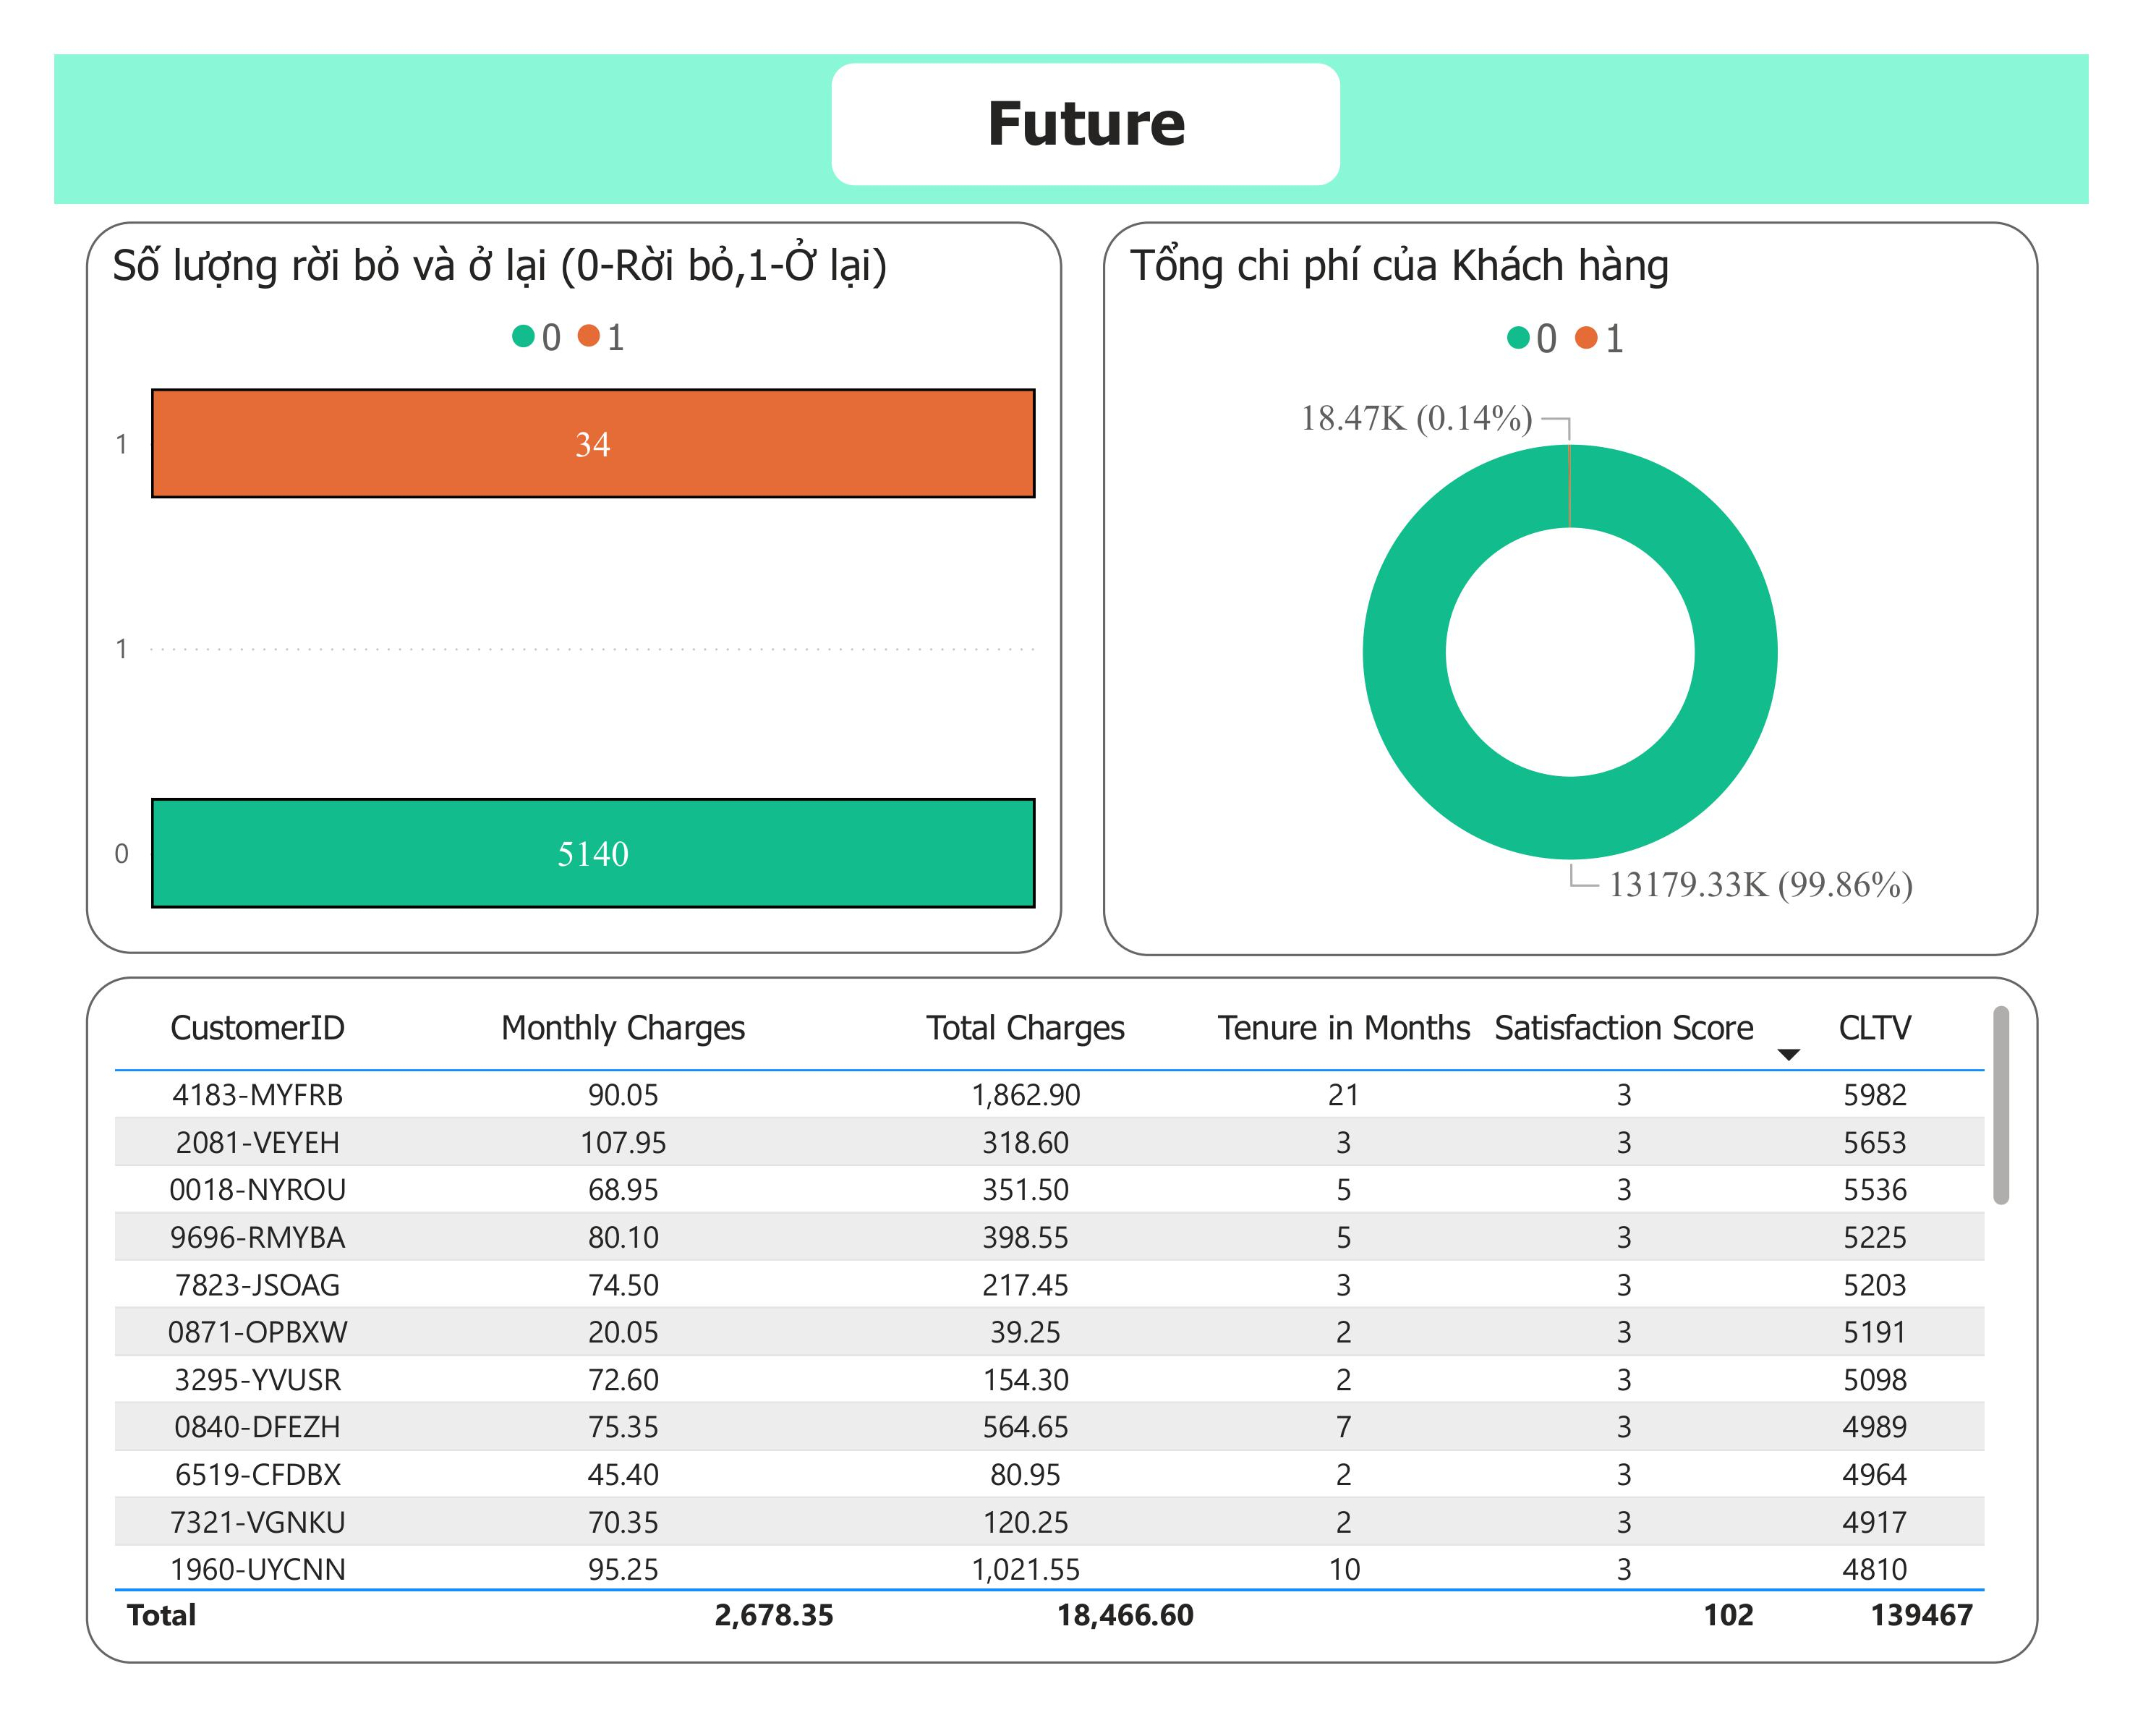

This screenshot's page, from the dashboard's own definition file:
{"tool":"powerbi","page":{"name":"Predict ","canvas":[900,720],"ordinal":3},"visuals":[{"type":"hundredPercentStackedBarChart","title":"Số lượng rời bỏ và ở lại (0-Rời bỏ,1-Ở lại)","fields":{"Category":["Future.Churn Label Future"],"Y":["CountNonNull(Future.CustomerID)"],"Series":["Future.Churn Label Future"]},"box":[14,74,432,324],"z":0},{"type":"tableEx","fields":{"Values":["Future.CustomerID","Sum(Future.Monthly Charge)","Sum(Future.Total Charges)","Future.Tenure in Months","Sum(Future.Satisfaction Score)","Sum(Status.CLTV)"]},"box":[14,408,864,304],"z":1000},{"type":"donutChart","title":"Tổng chi phí của Khách hàng","fields":{"Category":["Future.Churn Label Future"],"Y":["Sum(Future.Total Charges)"]},"box":[464.4,74.4,413.3,324.4],"z":2000},{"type":"shape","box":[0,0,1700,65.6],"z":3000},{"type":"textbox","box":[344.4,4.4,224.4,53.3],"z":4000}]}

Visuals, with their boxes in screenshot pixels (x1, y1, x2, y2):
"Số lượng rời bỏ và ở lại (0-Rời bỏ,1-Ở lại)" hundredPercentStackedBarChart: select_region(86, 221, 1062, 954)
tableEx - Future.CustomerID x Sum(Future.Monthly Charge): select_region(86, 977, 2039, 1664)
"Tổng chi phí của Khách hàng" donutChart: select_region(1104, 223, 2038, 956)
shape: select_region(54, 54, 2089, 203)
textbox: select_region(832, 64, 1340, 184)
